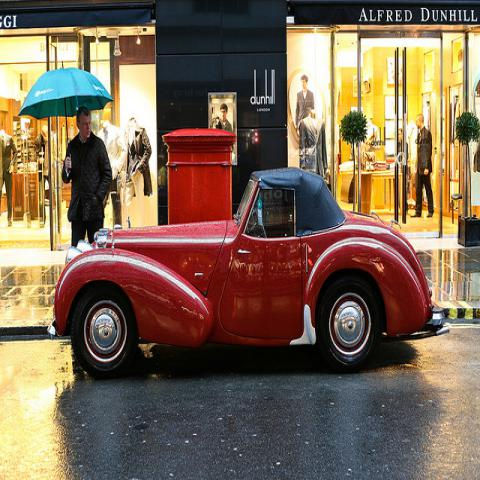car: (49, 166, 454, 380)
